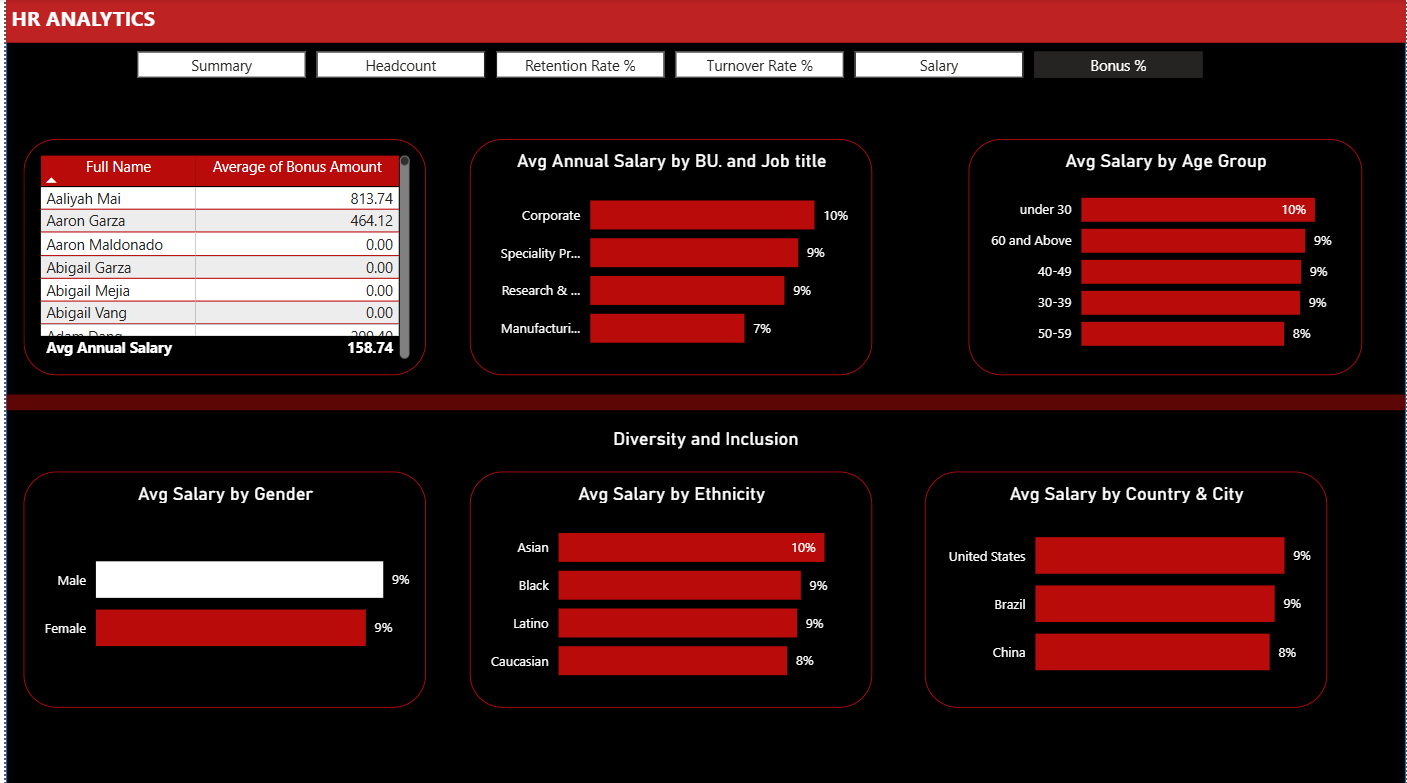

The page's visual inventory and layout, read from the dashboard file:
{"tool":"powerbi","page":{"name":"Bonus %","canvas":[1280,720],"ordinal":5},"visuals":[{"type":"shape","box":[0,0,1280,720],"z":0},{"type":"shape","box":[0,0,1280,40],"z":1000},{"type":"textbox","box":[0,0,312,40],"z":2000},{"type":"clusteredBarChart","title":"Avg Annual Salary by BU. and Job title","fields":{"Category":["TBL_Employees.Business Unit","TBL_Employees.Department","TBL_Employees.Job Title"],"Y":["Avg(TBL_Employees.Bonus %)"]},"box":[424,128,368,216],"z":3000},{"type":"actionButton","box":[0,360,1280,16],"z":4000},{"type":"shape","title":"Diversity and Inclusion","box":[544,392,192,24],"z":5000},{"type":"clusteredBarChart","title":"Avg Salary by Age Group","fields":{"Category":["TBL_Employees.Age Band"],"Y":["Avg(TBL_Employees.Bonus %)"]},"box":[880,128,360,216],"z":6000},{"type":"tableEx","title":"Turn over Rate","fields":{"Values":["TBL_Employees.Full Name","Avg(TBL_Employees.Bonus Amount)"]},"box":[16,128,368,216],"z":7000},{"type":"clusteredBarChart","title":"Avg Salary by Ethnicity","fields":{"Category":["TBL_Employees.Ethnicity"],"Y":["Avg(TBL_Employees.Bonus %)"]},"box":[424,432,368,216],"z":8000},{"type":"clusteredBarChart","title":"Avg Salary by Country & City","fields":{"Category":["TBL_Employees.Country","TBL_Employees.City"],"Y":["Avg(TBL_Employees.Bonus %)"]},"box":[840,432,368,216],"z":9000},{"type":"barChart","title":"Avg Salary by Gender","fields":{"Category":["TBL_Employees.Gender"],"Y":["Avg(TBL_Employees.Bonus %)"]},"box":[16,432,368,216],"z":10000},{"type":"pageNavigator","box":[120,48,976,24],"z":11000}]}

Visuals, with their boxes in screenshot pixels (x1, y1, x2, y2), scaled from the page's 1280x720 canvas onto the 1407x783 screenshot:
shape: region(0, 0, 1406, 782)
shape: region(0, 0, 1406, 44)
textbox: region(0, 0, 343, 44)
"Avg Annual Salary by BU. and Job title" clusteredBarChart: region(466, 139, 871, 374)
actionButton: region(0, 391, 1406, 409)
"Diversity and Inclusion" shape: region(598, 426, 809, 452)
"Avg Salary by Age Group" clusteredBarChart: region(967, 139, 1363, 374)
"Turn over Rate" tableEx: region(18, 139, 422, 374)
"Avg Salary by Ethnicity" clusteredBarChart: region(466, 470, 871, 705)
"Avg Salary by Country & City" clusteredBarChart: region(923, 470, 1328, 705)
"Avg Salary by Gender" barChart: region(18, 470, 422, 705)
pageNavigator: region(132, 52, 1205, 78)
